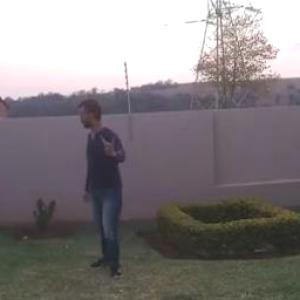takeoff-hand: (98, 129, 124, 159)
